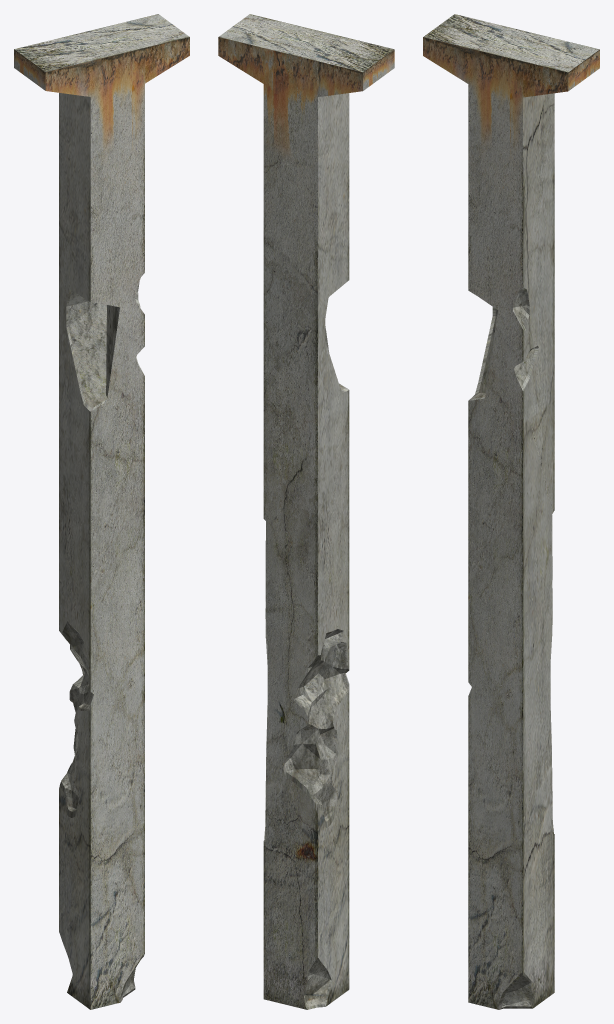
File: Factory1Column02.FBX
3 views of the same model, side by side, from view 1: azimuth 30°, elevation 25°; view 2: azimuth 150°, elevation 25°; view 3: azimuth 330°, elevation 25° (orthographic).
Visible parts, largest first — view 1: Factory1Column02; view 2: Factory1Column02; view 3: Factory1Column02.
Part boxes in pixels (x1,y1,x2,y2): Factory1Column02: (14,14,189,1009); Factory1Column02: (218,14,394,1009); Factory1Column02: (423,14,599,1009).
Bounding box in the file's own units: 124 × 782 × 46.88.
